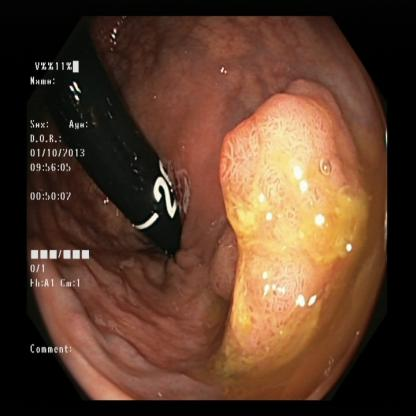Labels: (22, 57, 97, 372)
Polyps: (220, 104, 356, 352)
